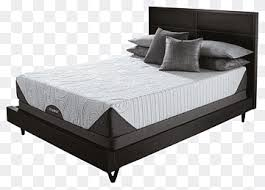bed-matress: (16, 45, 248, 145)
